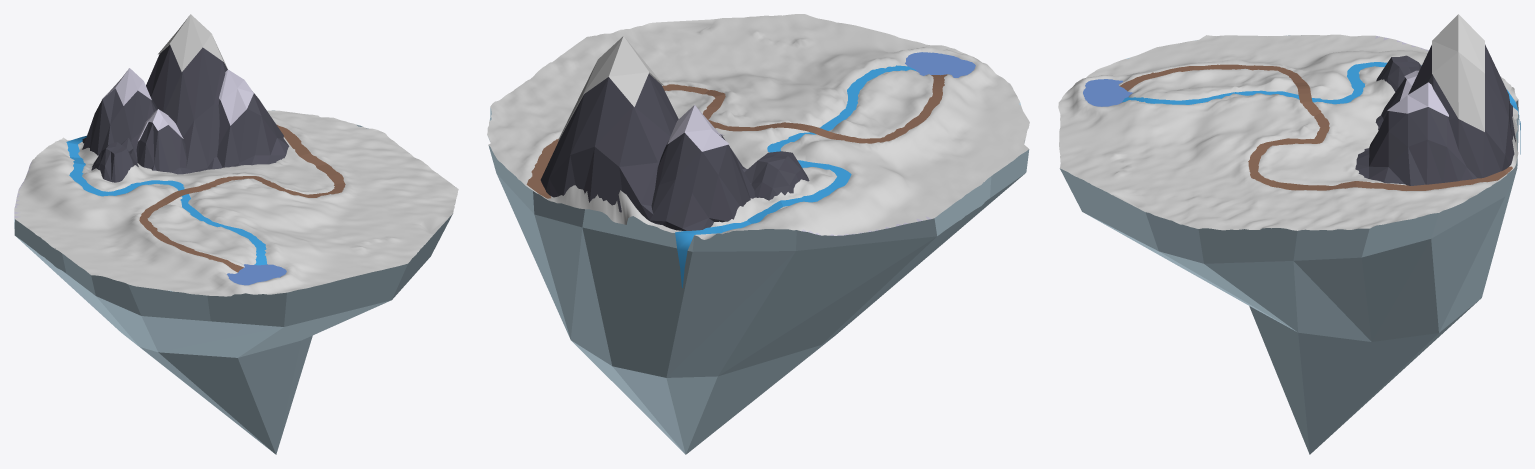
Rendered from Level 2 ice berg totally finished.fbx.
3 views of the same model, side by side, from view 1: azimuth 30°, elevation 25°; view 2: azimuth 150°, elevation 25°; view 3: azimuth 270°, elevation 25° (orthographic). The views are drawn at different scales.
Visible parts, largest first — view 1: Plane, Plane.002, Plane.004, Plane.001, Plane.003, Plane.005, Plane.006, water; view 2: Plane, Plane.002, Plane.003, Plane.001, Plane.006, water; view 3: Plane, Plane.002, Plane.004, Plane.001, water, Plane.006, Plane.005.
Boxes of the visible parts, x1,y1,x2,y2 form: Plane: [14, 110, 458, 454]; Plane.002: [146, 14, 227, 171]; Plane.004: [207, 69, 289, 169]; Plane.001: [66, 124, 345, 272]; Plane.003: [82, 68, 156, 155]; Plane.005: [136, 109, 195, 174]; Plane.006: [91, 138, 138, 182]; water: [227, 264, 286, 285]; Plane: [487, 14, 1029, 454]; Plane.002: [540, 36, 678, 224]; Plane.003: [648, 105, 754, 230]; Plane.001: [526, 65, 946, 287]; Plane.006: [742, 151, 809, 200]; water: [905, 52, 975, 77]; Plane: [1058, 34, 1518, 454]; Plane.002: [1408, 14, 1515, 178]; Plane.004: [1355, 82, 1476, 185]; Plane.001: [1119, 62, 1520, 190]; water: [1083, 79, 1133, 106]; Plane.006: [1376, 55, 1421, 91]; Plane.005: [1375, 70, 1418, 130].
Bounding box in the file's own units: 4474 × 4622 × 4485.
